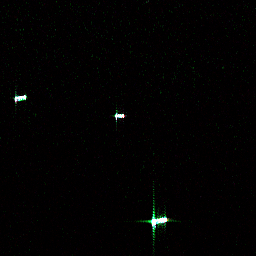ship: (148, 215, 170, 226), (12, 93, 28, 104), (113, 112, 127, 119)
